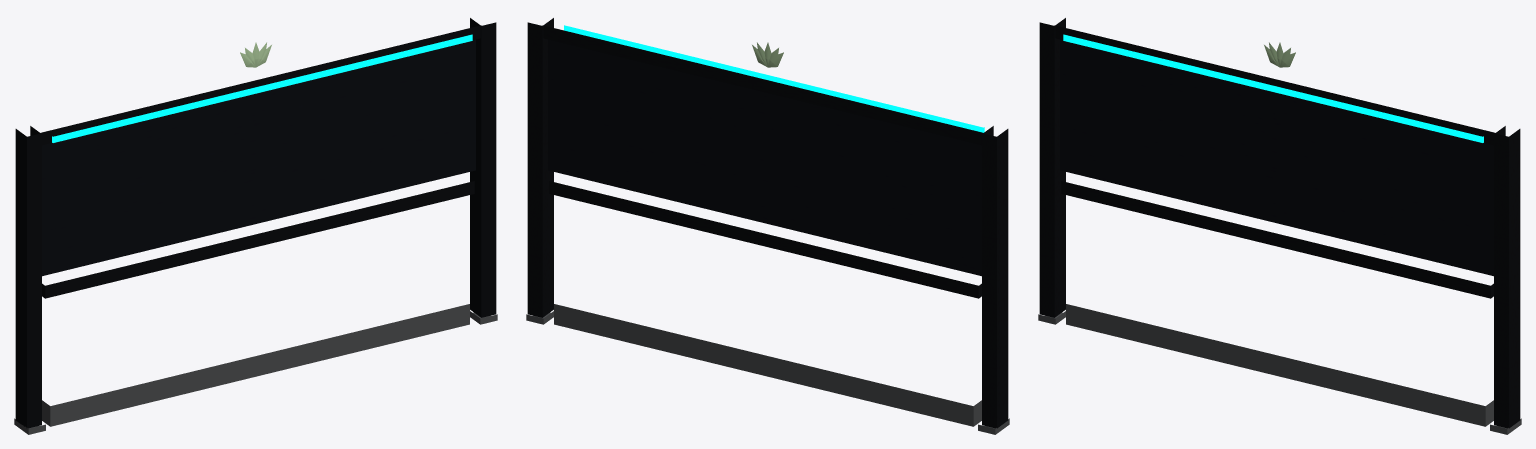
File: tt_climb_entry_guard.glb
3 views of the same model, side by side, from view 1: azimuth 30°, elevation 25°; view 2: azimuth 150°, elevation 25°; view 3: azimuth 330°, elevation 25° (orthographic).
Visible parts, largest first — view 1: Panel, Frame, Kick, LED_Edge, Leaf_Crest; view 2: Panel, Frame, Kick, LED_Edge, Leaf_Crest; view 3: Panel, Frame, Kick, LED_Edge, Leaf_Crest.
Boxes of the visible parts, x1,y1,x2,y2 form: Panel: (42, 39, 475, 276); Frame: (15, 18, 496, 428); Kick: (42, 304, 469, 426); LED_Edge: (52, 34, 472, 142); Leaf_Crest: (240, 42, 271, 67); Panel: (548, 39, 981, 276); Frame: (527, 18, 1008, 428); Kick: (554, 304, 981, 426); LED_Edge: (564, 25, 984, 132); Leaf_Crest: (752, 42, 783, 67); Panel: (1060, 39, 1493, 276); Frame: (1039, 18, 1520, 428); Kick: (1066, 304, 1493, 426); LED_Edge: (1063, 34, 1483, 142); Leaf_Crest: (1264, 42, 1295, 67).
Size of what is drawn, in the model's own units: 1.9 by 1.28 by 0.1.
5 materials, 2 textured.
